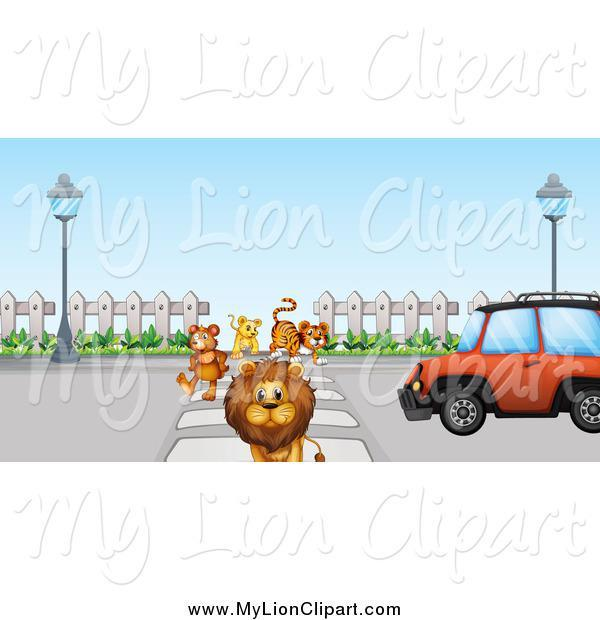car: (399, 300, 600, 434)
